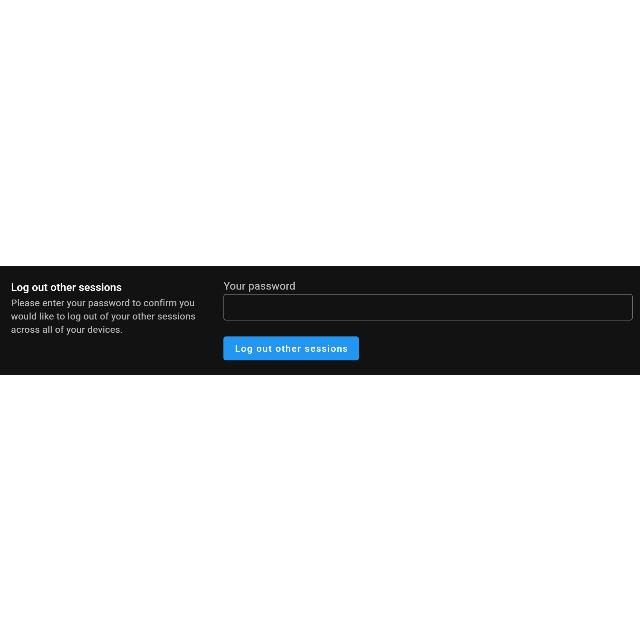QLabel: (10, 298, 196, 334), (235, 344, 349, 356), (9, 280, 121, 292), (222, 280, 296, 290)
VBtn: (222, 335, 360, 361)
VTextField: (222, 292, 634, 322)
